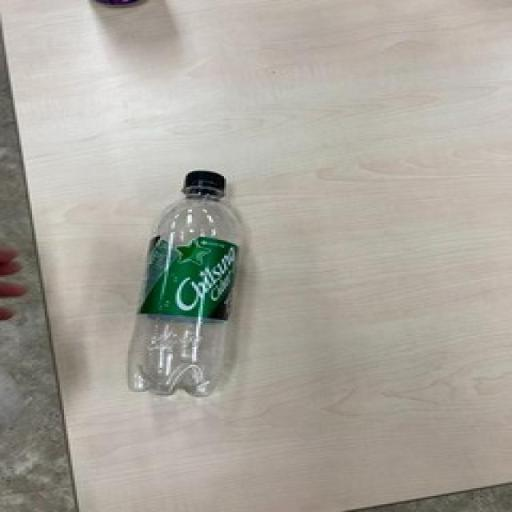plastic: (125, 167, 246, 406)
